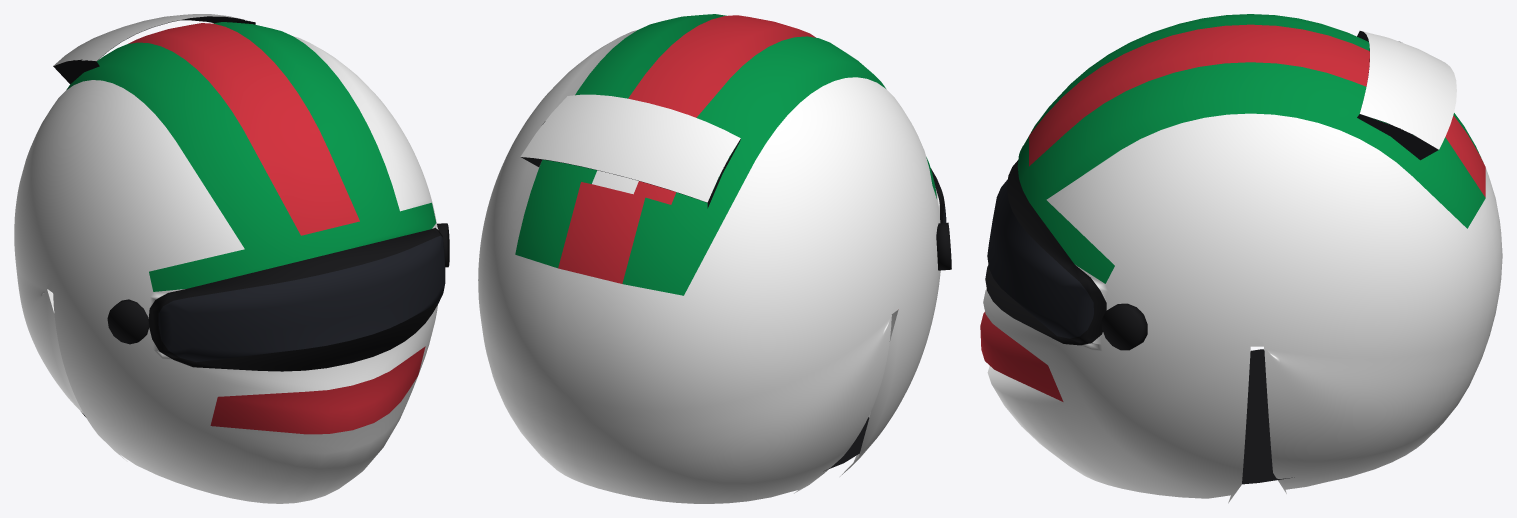
Rendered from ANT.glb.
3 renders of one model, left to right at view 1: azimuth 30°, elevation 25°; view 2: azimuth 150°, elevation 25°; view 3: azimuth 270°, elevation 25°, orthographic. The views are drawn at different scales.
Visible parts, largest first — view 1: helmet; view 2: helmet; view 3: helmet.
Boxes of the visible parts, x1,y1,x2,y2 form: helmet: (14,14,449,503); helmet: (478,14,951,503); helmet: (980,14,1502,503).
Bounding box in the file's own units: 0.256 × 0.2772 × 0.3111.
